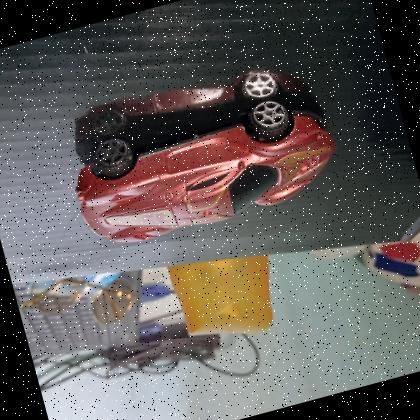Car: (59, 79, 353, 264)
